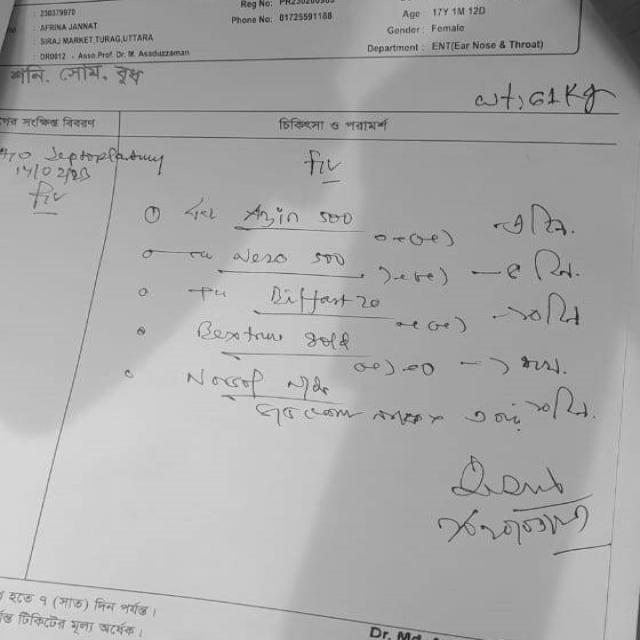medicine: (185, 320, 354, 352), (177, 362, 274, 392), (256, 284, 351, 312), (236, 201, 304, 229), (226, 247, 289, 270)
